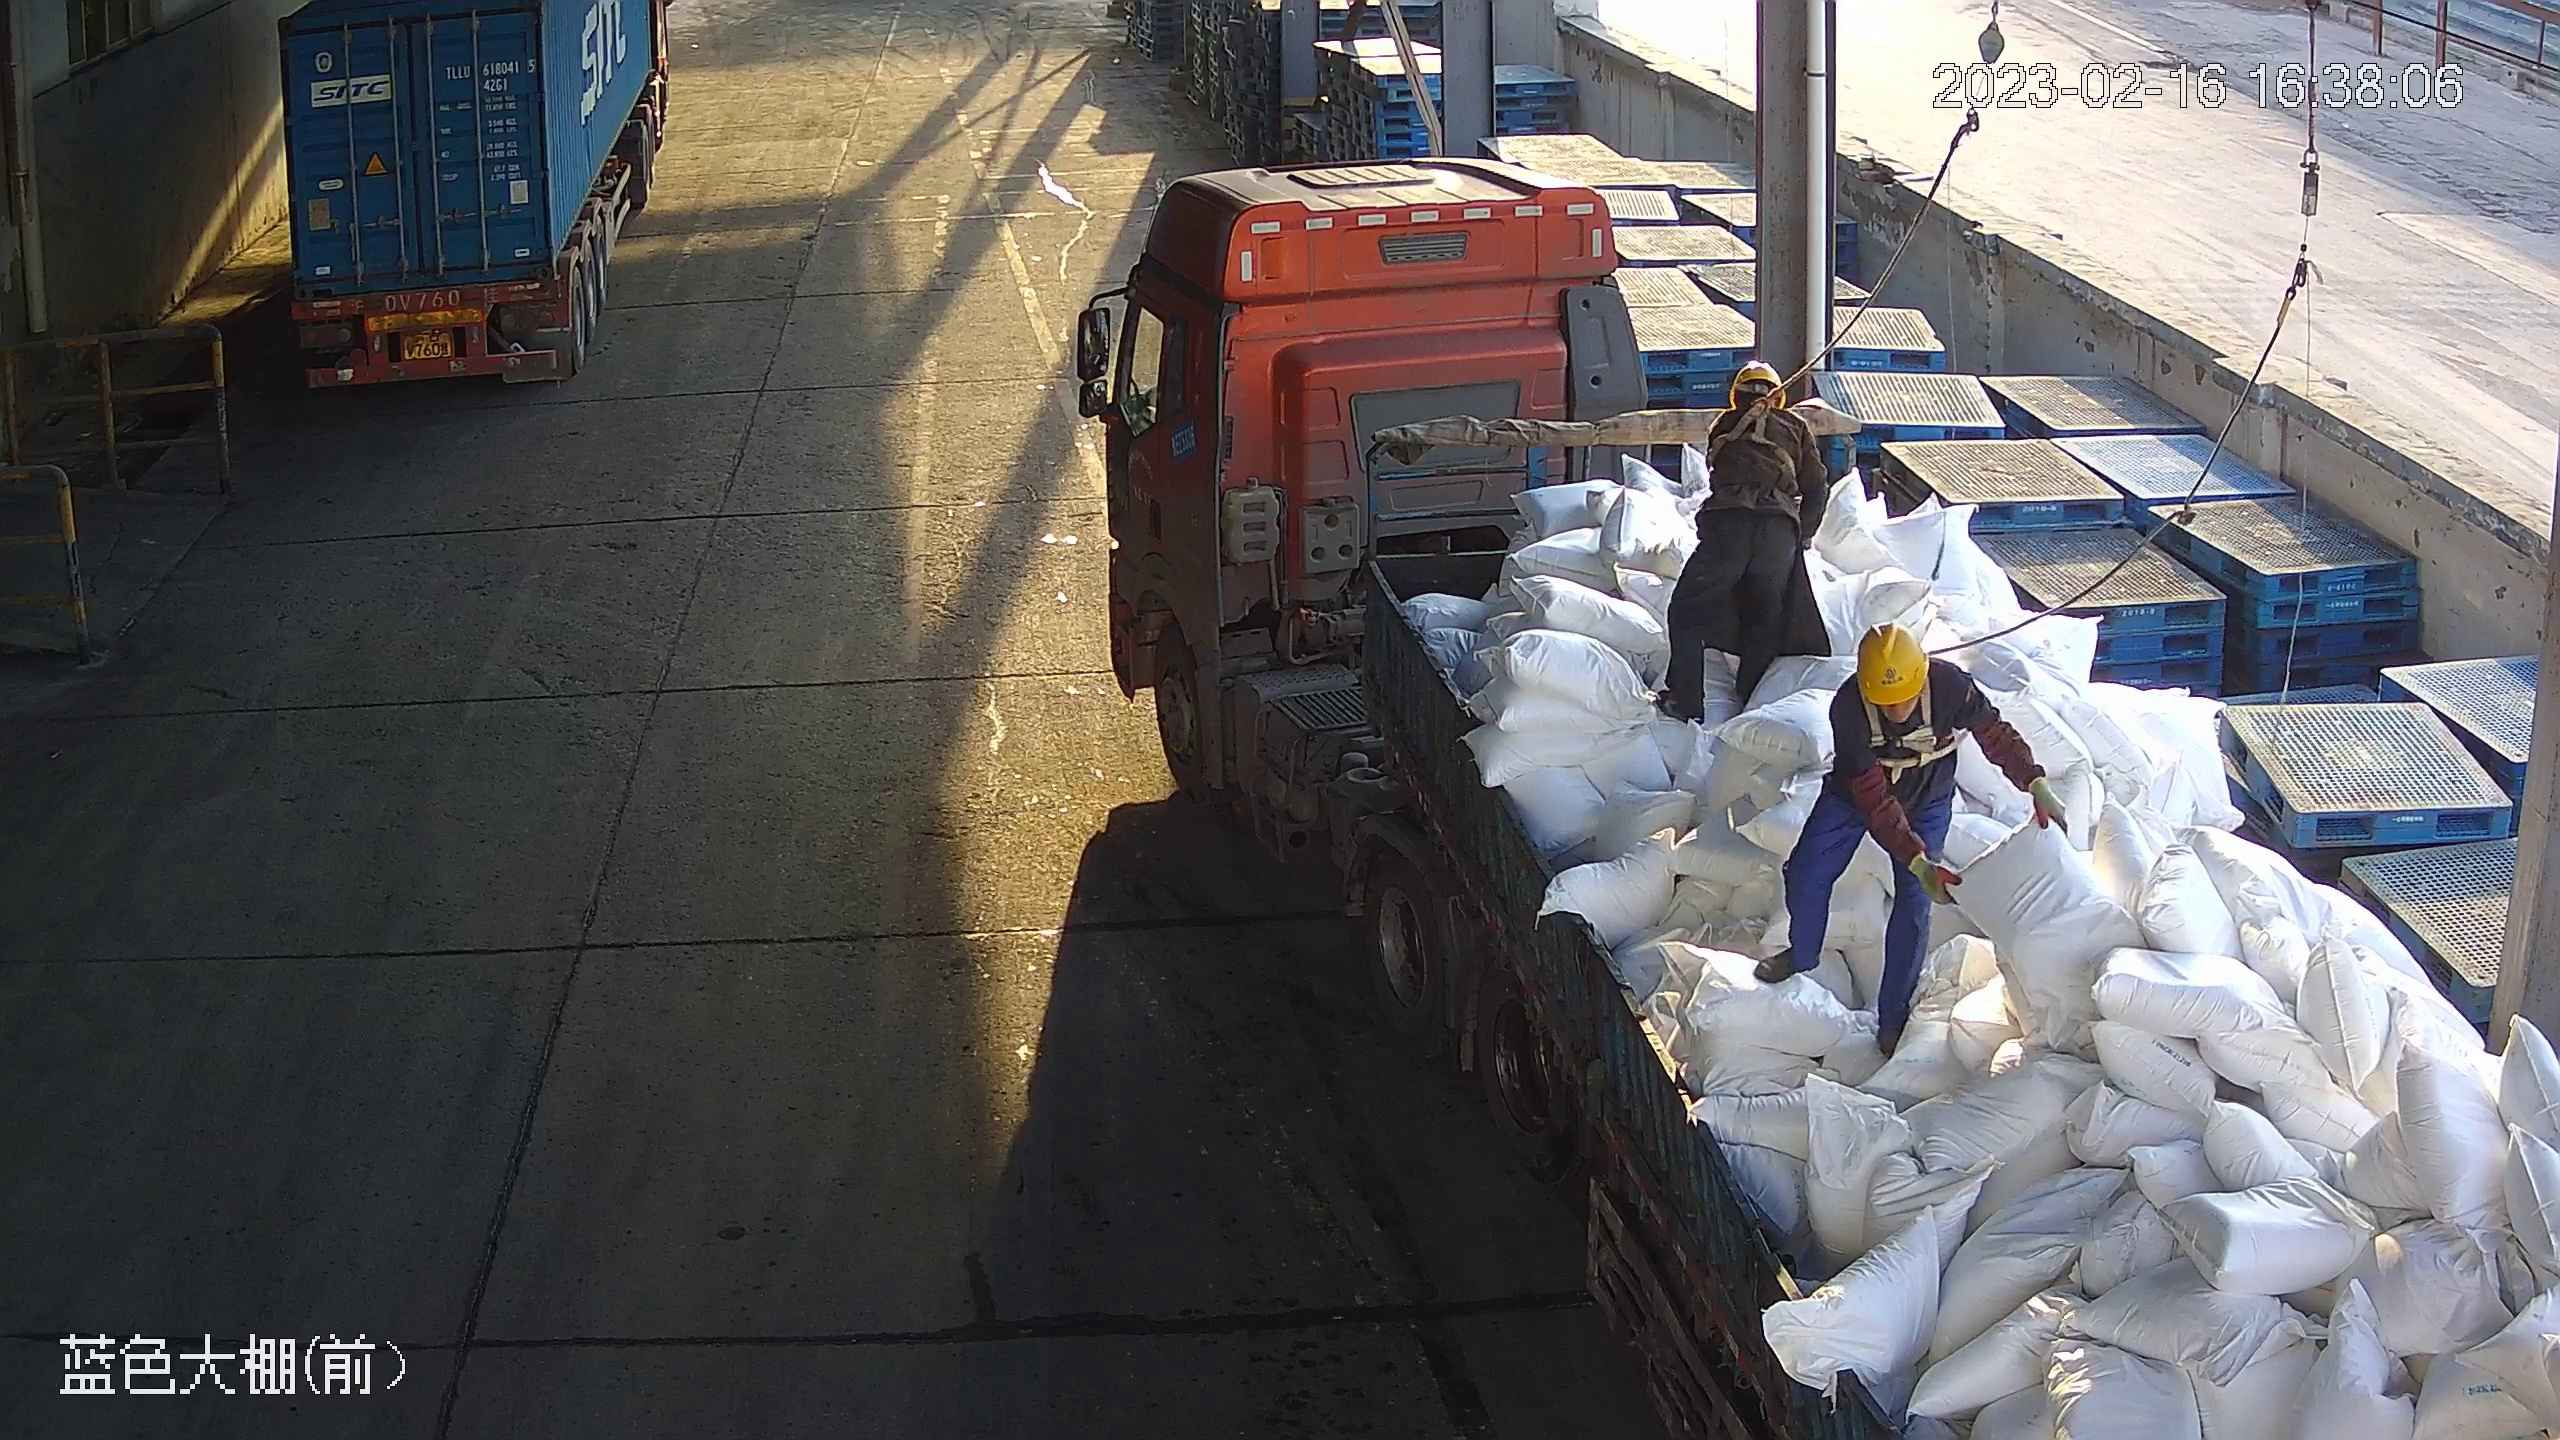belt: (1857, 670, 1970, 770), (1703, 392, 1805, 462)
head: (1822, 625, 1994, 770), (1701, 351, 1812, 460)
helmet: (1843, 625, 1938, 703), (1714, 353, 1783, 405)
people: (1763, 628, 2024, 1039), (1662, 345, 1831, 718)
truck: (1068, 158, 2560, 1440), (248, 1, 688, 390)
